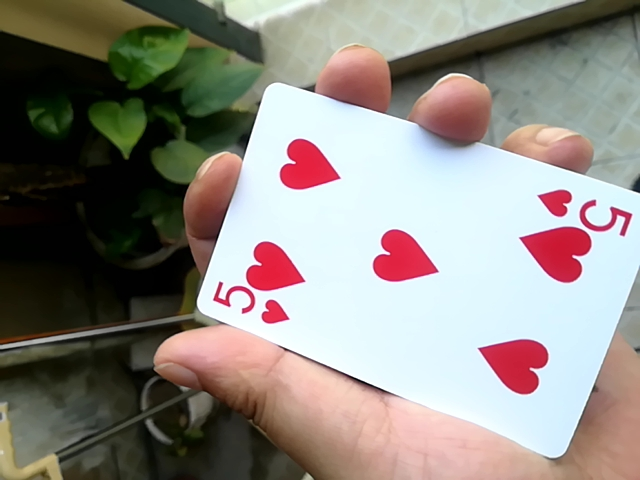hx 5: (182, 76, 640, 461)
